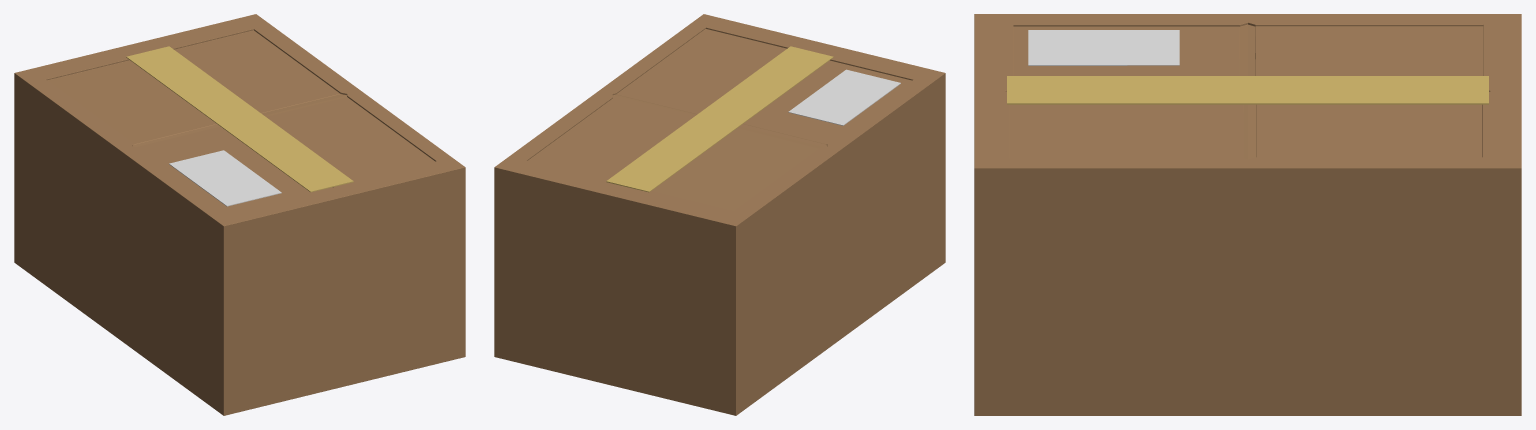
Rendered from box1Aslan.fbx.
3 renders of one model, left to right at view 1: azimuth 30°, elevation 25°; view 2: azimuth 150°, elevation 25°; view 3: azimuth 270°, elevation 25°, orthographic. The views are drawn at different scales.
Visible parts, largest first — view 1: Cube, Cube.001, Cube.002; view 2: Cube, Cube.001, Cube.002; view 3: Cube, Cube.001, Cube.002.
Boxes of the visible parts, x1,y1,x2,y2 form: Cube: (14,14,465,415); Cube.001: (126,46,353,192); Cube.002: (169,150,281,206); Cube: (494,14,945,415); Cube.001: (606,46,833,192); Cube.002: (788,69,900,125); Cube: (974,14,1521,415); Cube.001: (1007,76,1488,104); Cube.002: (1028,30,1179,65).
Size of the model in its own units: 400 by 302 by 600.
